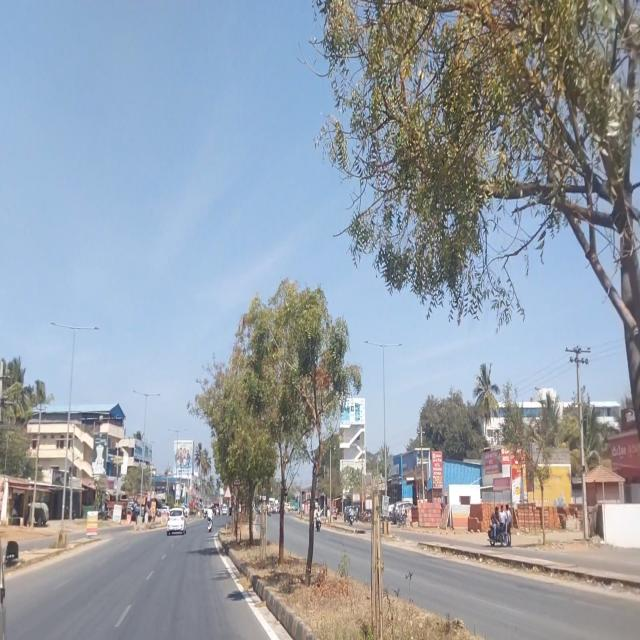bien_cam: (233, 469, 240, 486)
